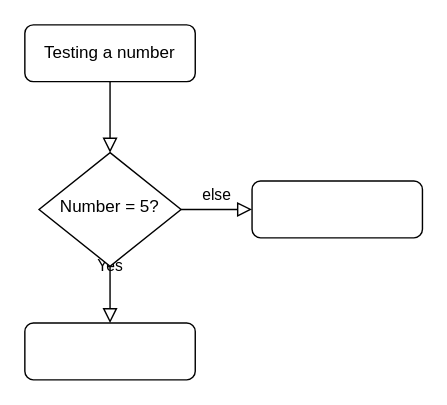
Image size: 447x405. Some labels were removed from this diagram. Here are the shapes that lost their labels. From the top down, the centre of each, then its label:
the point at 336,209: Print "Some other number.
the point at 109,351: Print "Five!"
